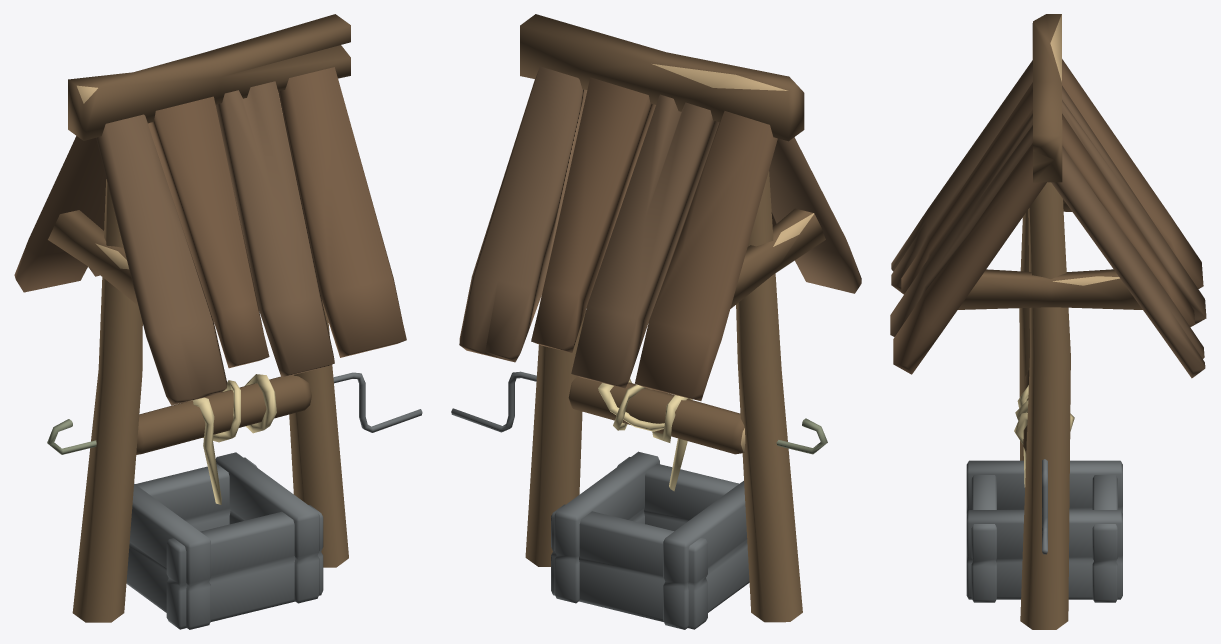
Rendered from rpgpp_lt_well_01 -col.glb.
The picture shows the model from 3 angles, left to right: view 1: azimuth 30°, elevation 25°; view 2: azimuth 150°, elevation 25°; view 3: azimuth 270°, elevation 25°; orthographic projection. The views are drawn at different scales.
Visible parts, largest first — view 1: rpgpp_lt_well_01 -col; view 2: rpgpp_lt_well_01 -col; view 3: rpgpp_lt_well_01 -col.
Boxes of the visible parts, x1,y1,x2,y2 form: rpgpp_lt_well_01 -col: (14,14,422,629); rpgpp_lt_well_01 -col: (451,14,861,629); rpgpp_lt_well_01 -col: (890,14,1206,629).
Size of the model in its own units: 2.72 by 3.71 by 2.14.
1 material, 1 textured.
